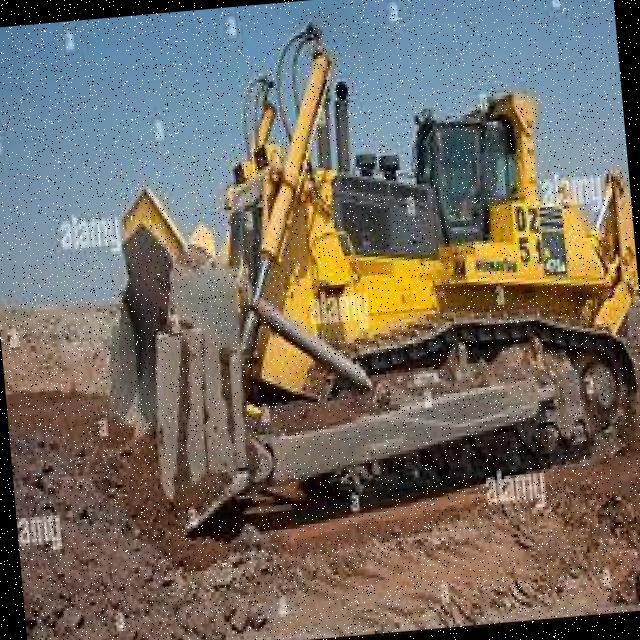Bulldozer: (33, 0, 640, 550)
